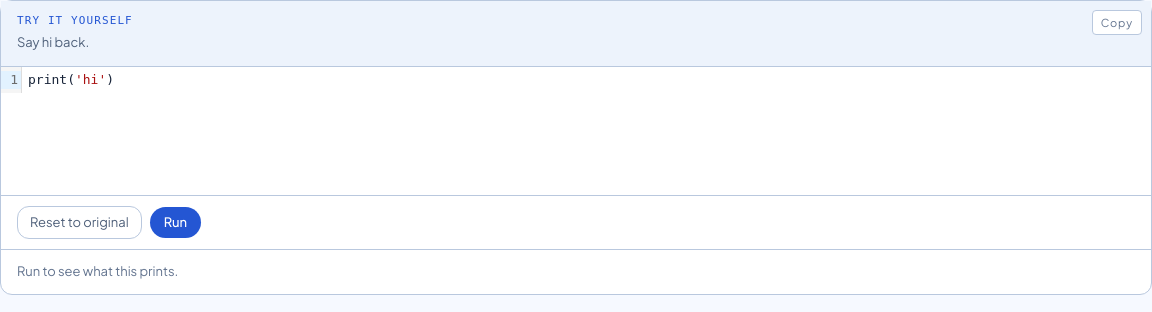
Test: Playground › shows the timeout message plainly rather than silently failing
The image size is (1152, 312).
What coordinates should you click on to do the following:
click the button "Run"
I would click on:
 (175, 222)
Its box is [150, 206, 201, 238].
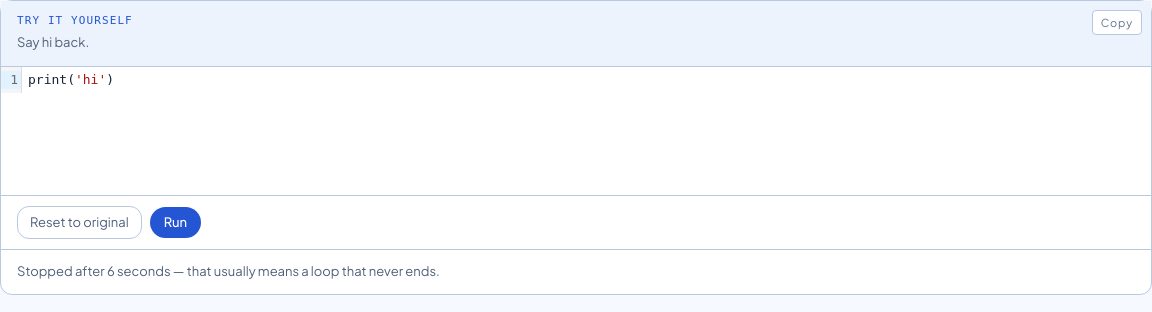
Now the text "Stopped after 6 seconds" is shown, box [17, 263, 440, 279]
